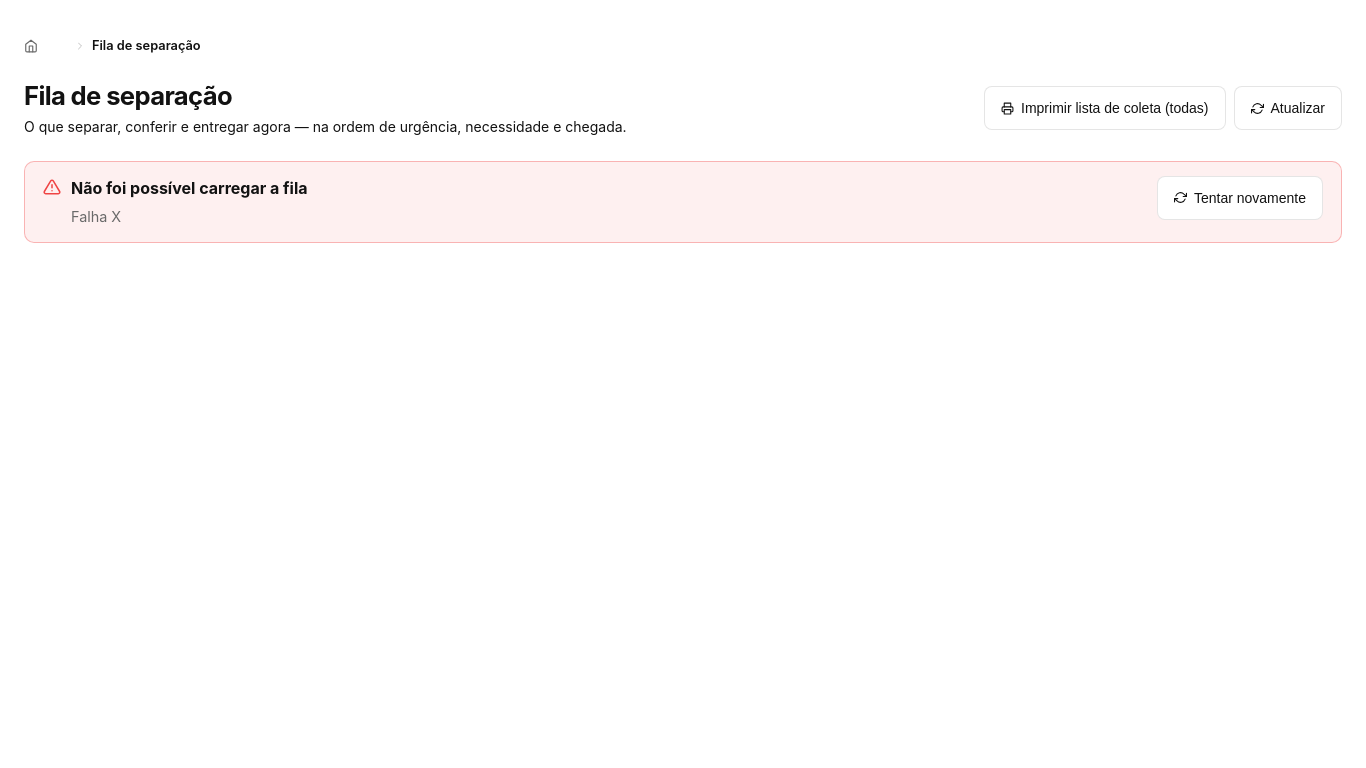
Test: erro de servidor mostra a mensagem; Atualizar recarrega
Expected: the element with test id "fila-erro" shows "Falha X", [71,208,121,225]
Click the button with test id "fila-atualizar".
click(1288, 108)  # box [1234,86,1342,130]
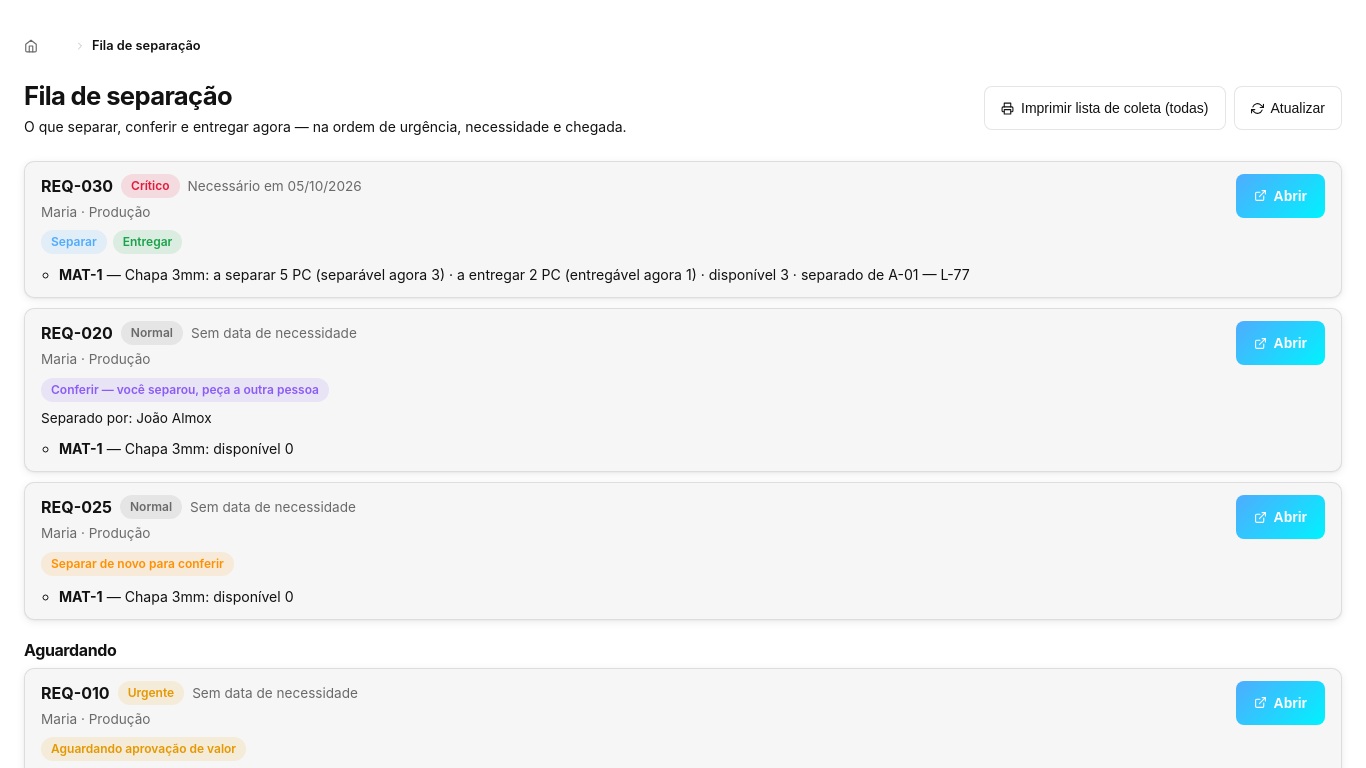
Expected: the element with test id "fila-erro" is gone
Expected: the list item with test id "fila-req-30" is shown, [24,161,1342,298]
